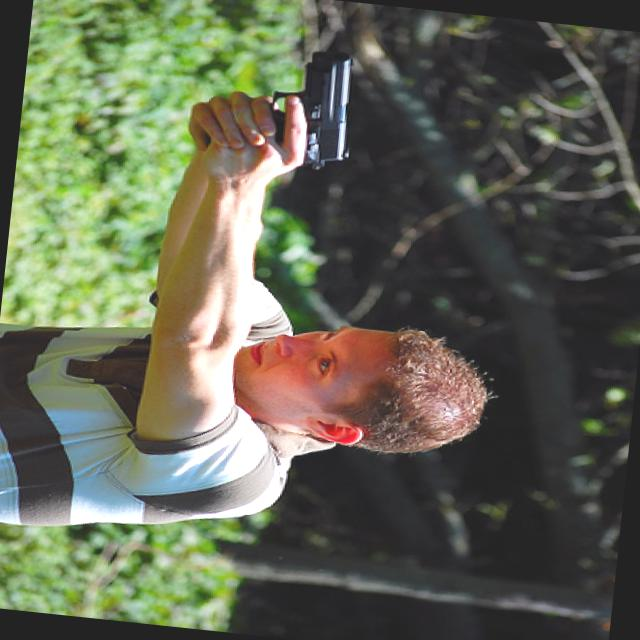handgun: (205, 38, 361, 175)
